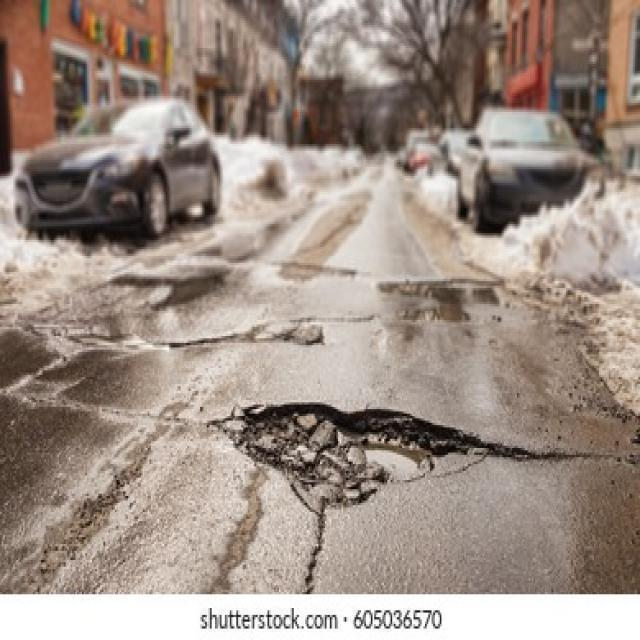pothole: (214, 400, 480, 505)
